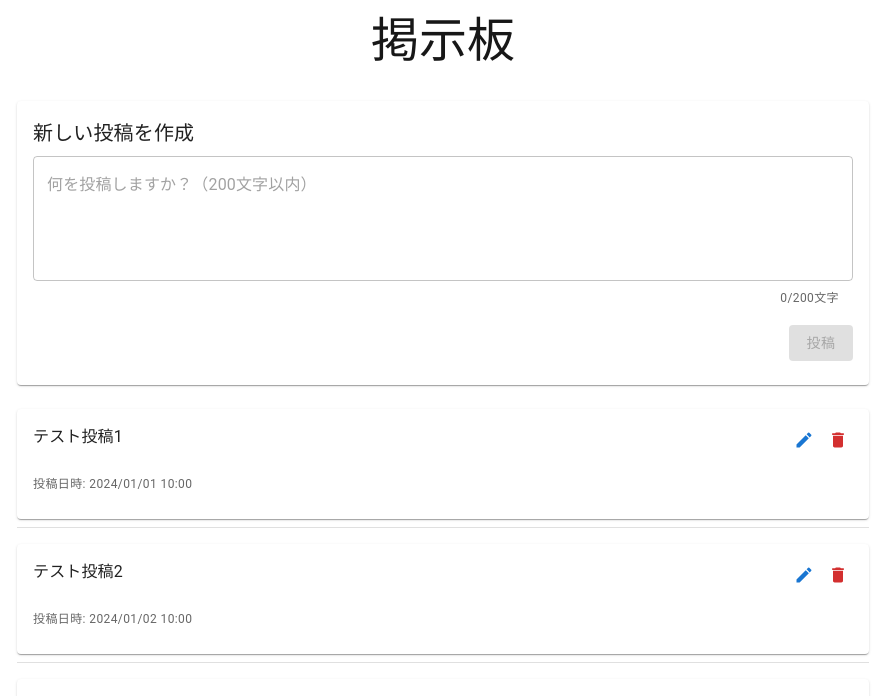
BoardApp › 投稿の編集 › 編集モードに切り替わる
The width and height of the screenshot is (887, 696).
Expected: the text "テスト投稿1" is shown, 33,427 -> 123,446
# 編集ボタンをクリック
Click the button with test id "EditIcon". click: (804, 440)
box: 789,425 -> 819,455
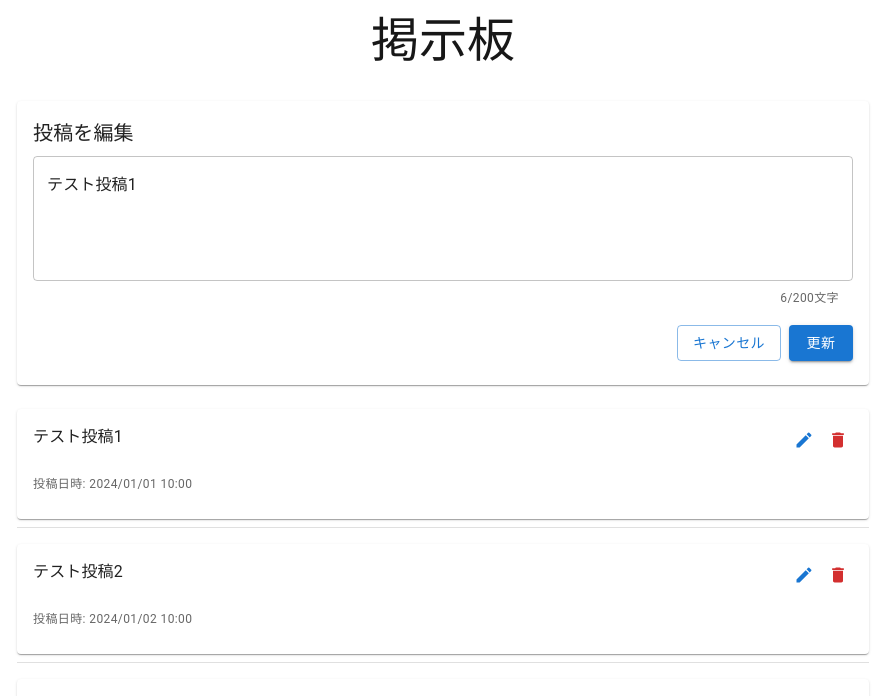
Expected: the heading "投稿を編集" is shown, 33,121 -> 134,145
Expected: the text box showing "テスト投稿1" is shown, 47,172 -> 839,264
